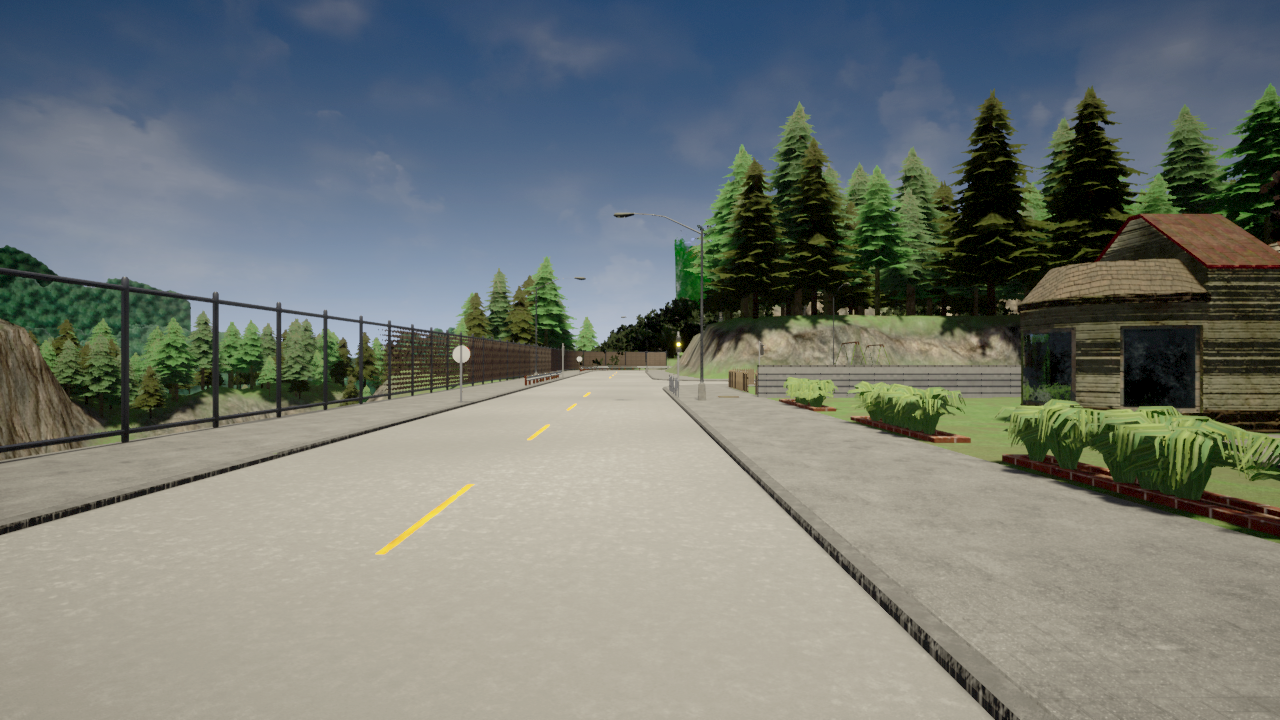yellow: (675, 336, 681, 352)
